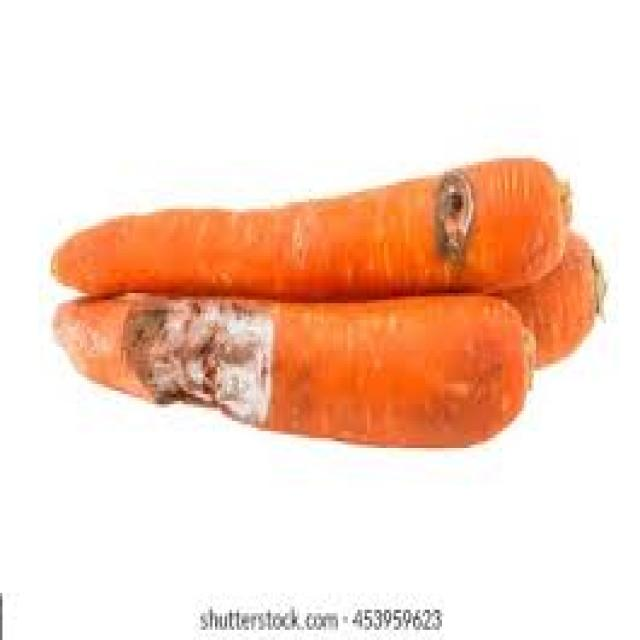Stale_Carrot: (60, 153, 573, 310), (55, 280, 534, 440)
